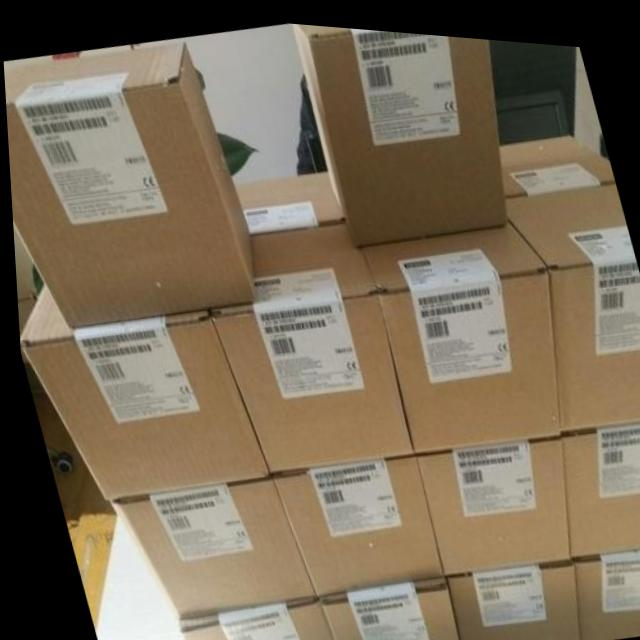box: (3, 39, 250, 327), (16, 283, 265, 500), (206, 215, 409, 468), (354, 210, 558, 446), (292, 19, 504, 238), (503, 173, 640, 426), (104, 473, 310, 620), (266, 451, 437, 593), (410, 428, 563, 570), (439, 549, 572, 640), (556, 415, 640, 549), (314, 574, 453, 640), (171, 593, 328, 640), (496, 125, 612, 188), (233, 164, 341, 230), (566, 538, 640, 633)
